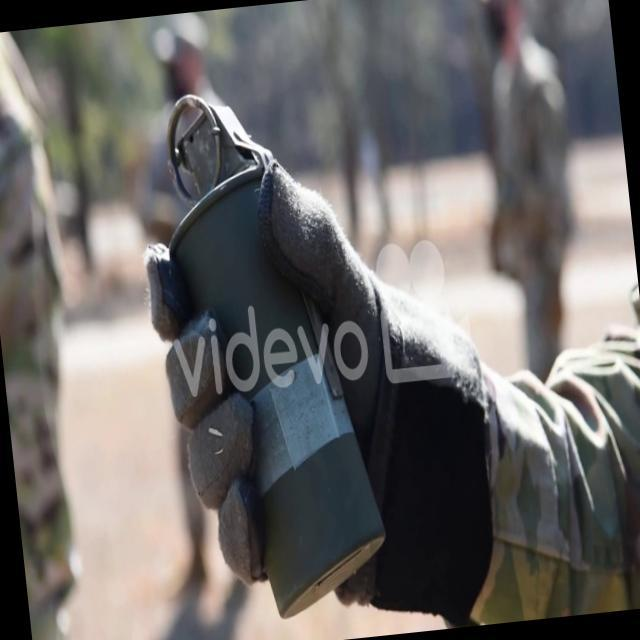grenade: (144, 70, 392, 624)
